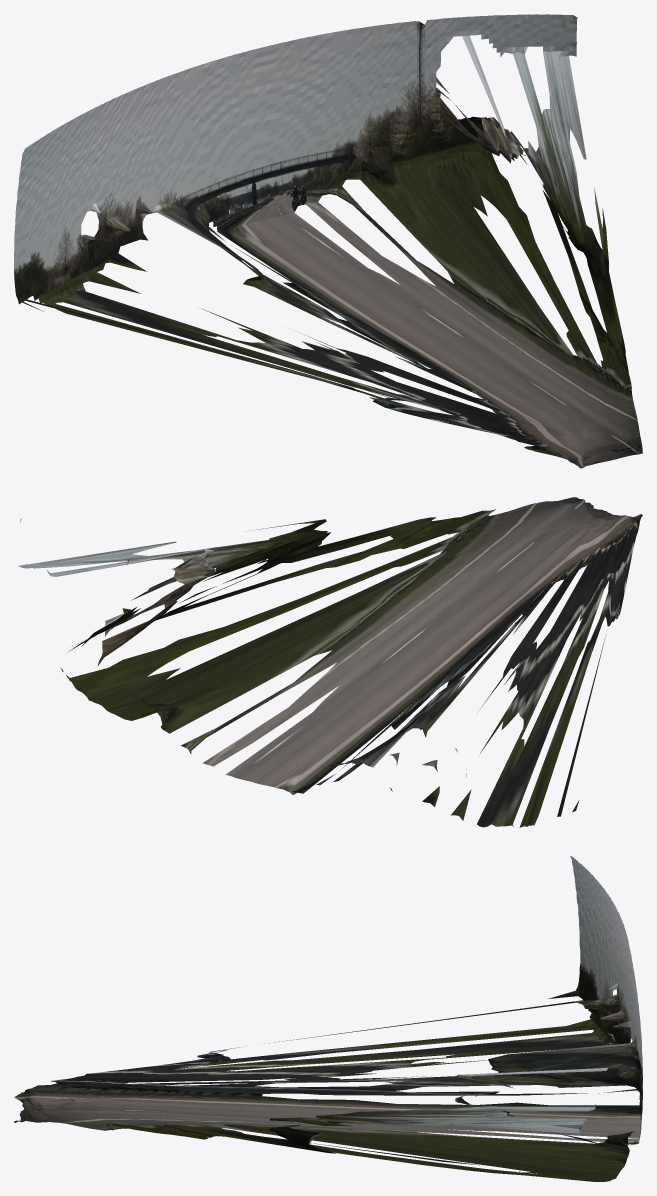
3 renders of one model, top to bottom at view 1: azimuth 30°, elevation 25°; view 2: azimuth 150°, elevation 25°; view 3: azimuth 270°, elevation 25°, orthographic. The views are drawn at different scales.
Parts seen in each view (by area): view 1: defaultobject; view 2: defaultobject; view 3: defaultobject.
Part boxes in pixels (x1,y1,x2,y2): defaultobject: (14, 14, 642, 468); defaultobject: (18, 497, 642, 827); defaultobject: (14, 856, 642, 1181).
Bounding box in the file's own units: 40.98 × 13.04 × 44.75.
Materials: 1 (1 with a texture image).
